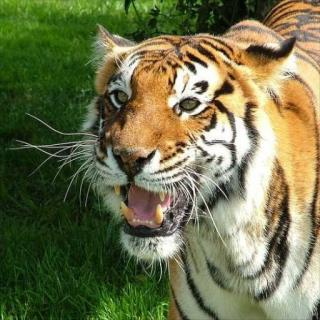Tiger: (34, 0, 320, 320)
